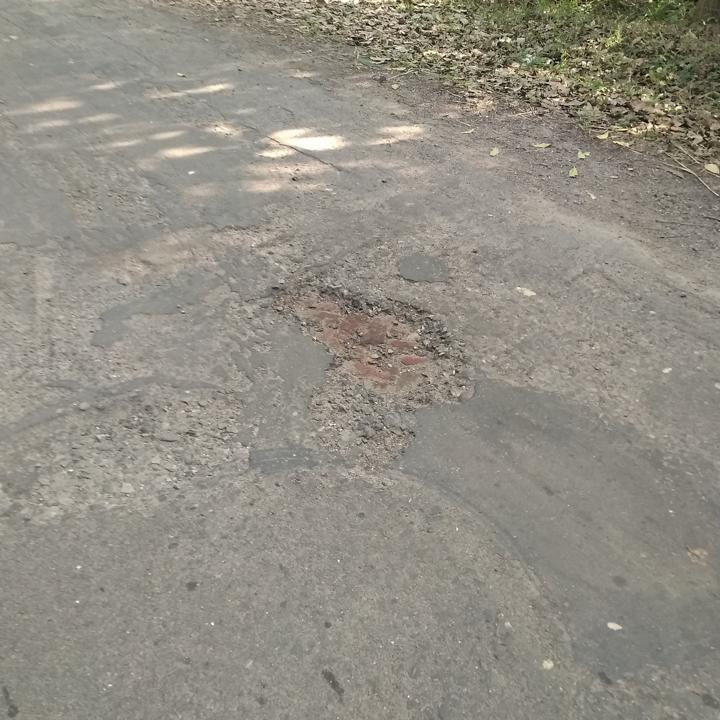pothole: (261, 278, 468, 412)
